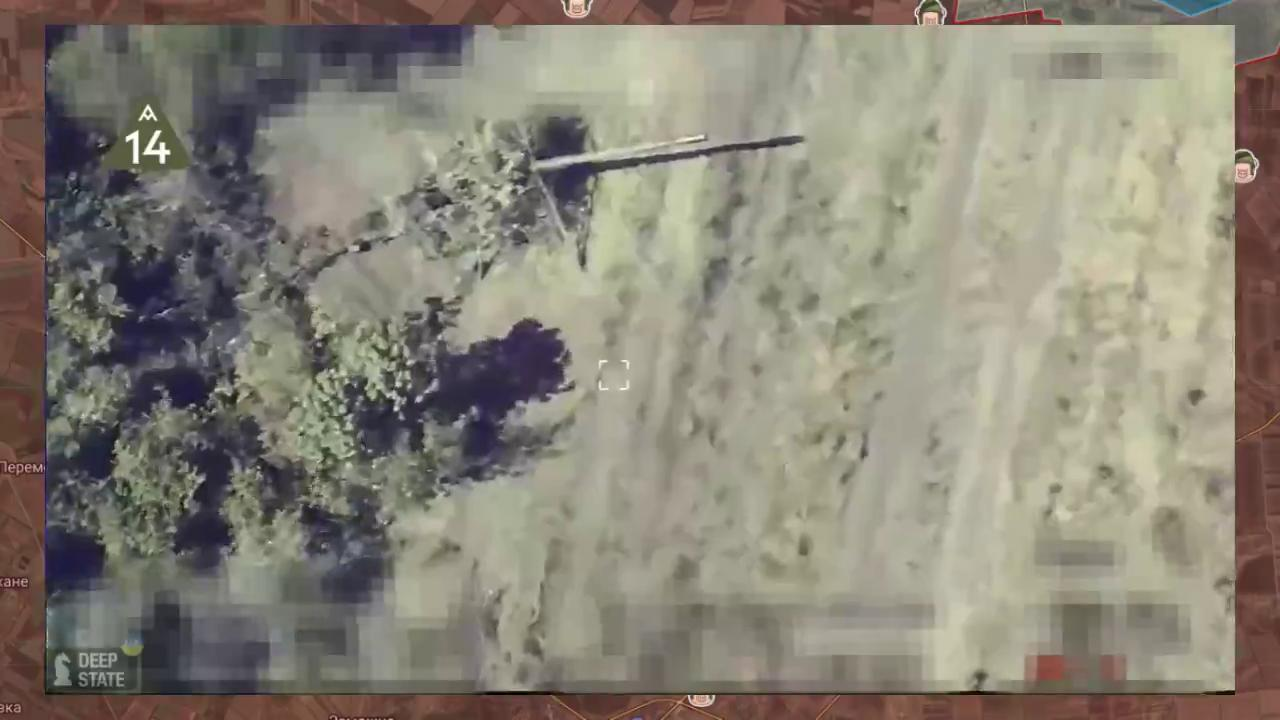tank: (295, 106, 710, 285)
